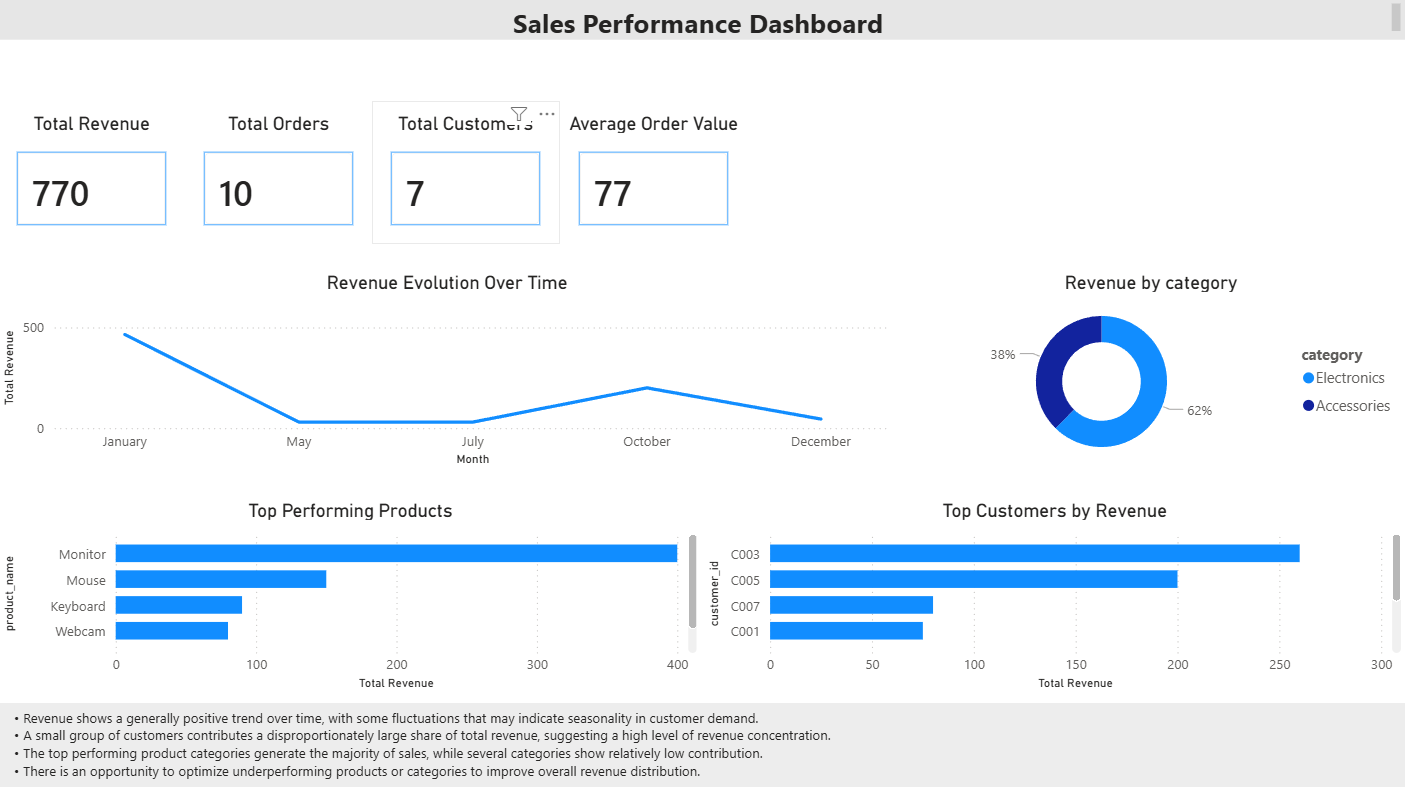

This screenshot's page, from the dashboard's own definition file:
{"tool":"powerbi","page":{"name":"Page 1","canvas":[1280,720],"ordinal":0},"visuals":[{"type":"cardVisual","title":"Total Revenue","fields":{"Data":["clean_sales.Total Revenue"]},"box":[0,93.4,170.2,130.3],"z":0},{"type":"cardVisual","title":"Total Orders","fields":{"Data":["clean_sales.Total Orders"]},"box":[170.2,93.4,170.2,130.3],"z":1000},{"type":"cardVisual","title":"Total Customers","fields":{"Data":["clean_sales.Total Customers"]},"box":[340.4,93.4,170.2,130.3],"z":2000},{"type":"cardVisual","title":"Average Order Value","fields":{"Data":["clean_sales.Avg Revenue per Order"]},"box":[510.6,93.4,170.2,130.3],"z":3000},{"type":"lineChart","title":"Revenue Evolution Over Time","fields":{"Category":["clean_sales.month.Variation.Date Hierarchy.Month","clean_sales.month.Variation.Date Hierarchy.Day"],"Y":["clean_sales.Total Revenue"]},"box":[0,248.1,816.4,181.9],"z":4000},{"type":"barChart","title":"Top Performing Products","fields":{"Category":["clean_sales.product_name"],"Y":["clean_sales.Total Revenue"]},"box":[0,455.7,640.5,177.9],"z":5000},{"type":"donutChart","title":"Revenue by category","fields":{"Category":["clean_sales.category"],"Y":["clean_sales.Total Revenue"]},"box":[816.4,248.1,463.6,181.9],"z":6000},{"type":"barChart","title":"Top Customers by Revenue","fields":{"Category":["clean_sales.customer_id"],"Y":["clean_sales.Total Revenue"]},"box":[640.5,455.7,639.5,177.9],"z":8000},{"type":"shape","box":[0,0,1280,37.9],"z":8001},{"type":"textbox","box":[0,0,1280,37.9],"z":8002},{"type":"textbox","box":[0,640.5,1280,79.1],"z":8003}]}

Visuals, with their boxes in screenshot pixels (x1, y1, x2, y2), scaled from the page's 1280x720 canvas onto the 1405x787 screenshot:
"Total Revenue" cardVisual: detection(0, 102, 187, 245)
"Total Orders" cardVisual: detection(187, 102, 374, 245)
"Total Customers" cardVisual: detection(374, 102, 560, 245)
"Average Order Value" cardVisual: detection(560, 102, 747, 245)
"Revenue Evolution Over Time" lineChart: detection(0, 271, 896, 470)
"Top Performing Products" barChart: detection(0, 498, 703, 693)
"Revenue by category" donutChart: detection(896, 271, 1404, 470)
"Top Customers by Revenue" barChart: detection(703, 498, 1404, 693)
shape: detection(0, 0, 1404, 41)
textbox: detection(0, 0, 1404, 41)
textbox: detection(0, 700, 1404, 786)
